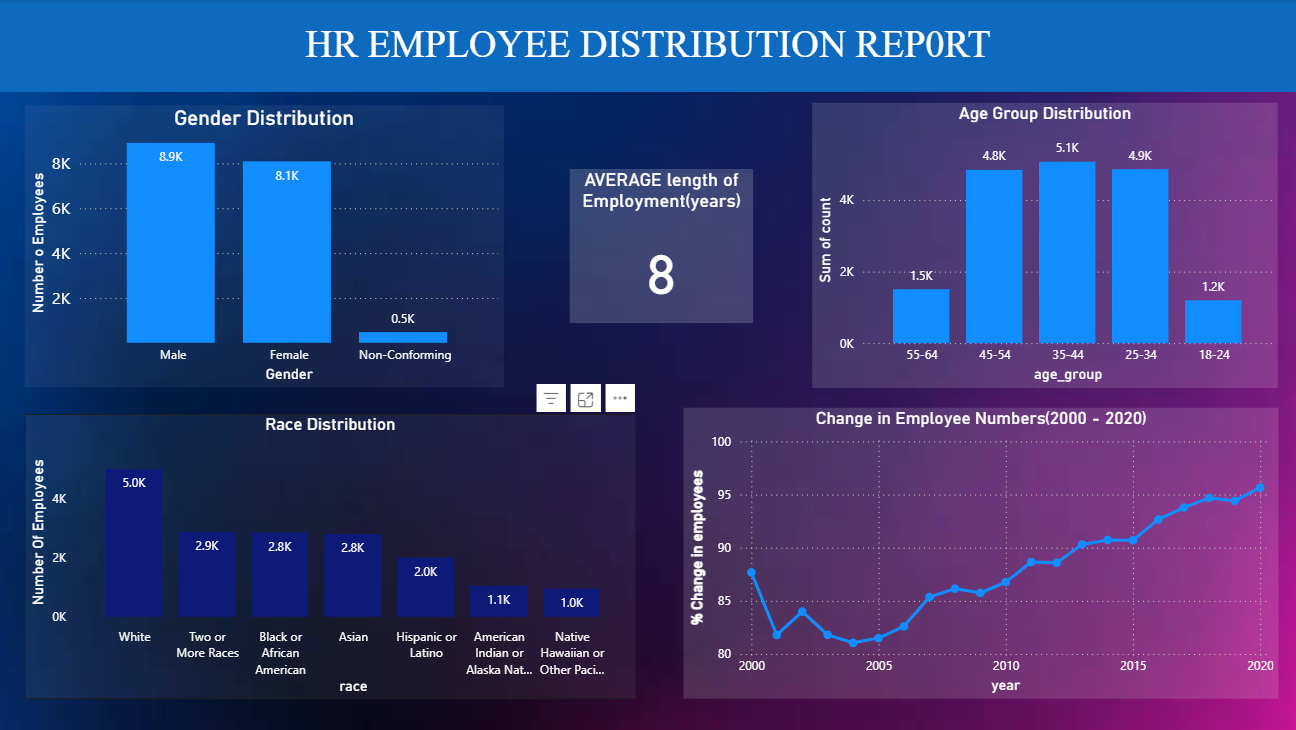

What the dashboard file says about the page in this screenshot:
{"tool":"powerbi","page":{"name":"Page 1","canvas":[1280,720],"ordinal":0},"visuals":[{"type":"textbox","box":[0,0,1280,91.4],"z":0},{"type":"card","title":"AVERAGE length of Employment(years)","fields":{"Values":["Sum(avg_length_employment.avg_length_employment)"]},"box":[562.9,167.1,180,151.4],"z":1000},{"type":"columnChart","title":"Gender Distribution","fields":{"Category":["gender.gender"],"Y":["Sum(gender.count)"]},"box":[28.6,104.3,470,277.1],"z":2000},{"type":"lineChart","title":"Change in Employee Numbers(2000 - 2020)","fields":{"Category":["year.year"],"Y":["Sum(year.net_change_percent)"]},"box":[674.3,401.4,584.3,285.7],"z":3000},{"type":"clusteredColumnChart","title":"Race Distribution","fields":{"Category":["race.race"],"Y":["Sum(race.count)"]},"box":[28.6,407.1,600,280],"z":4000},{"type":"columnChart","title":"Age Group Distribution","fields":{"Y":["Sum(age_group.count)"],"Category":["age_group.age_group"]},"box":[801.4,101.4,457.1,280],"z":5000}]}

Visuals, with their boxes in screenshot pixels (x1, y1, x2, y2), scaled from the page's 1280x720 canvas onto the 1296x730 screenshot:
textbox: Rect(0, 0, 1295, 93)
"AVERAGE length of Employment(years)" card: Rect(570, 169, 752, 323)
"Gender Distribution" columnChart: Rect(29, 106, 505, 387)
"Change in Employee Numbers(2000 - 2020)" lineChart: Rect(683, 407, 1274, 697)
"Race Distribution" clusteredColumnChart: Rect(29, 413, 636, 697)
"Age Group Distribution" columnChart: Rect(811, 103, 1274, 387)
